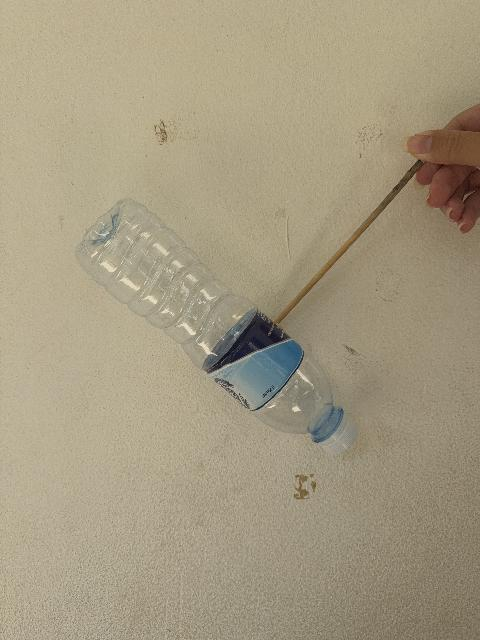bottle: (77, 199, 357, 454)
